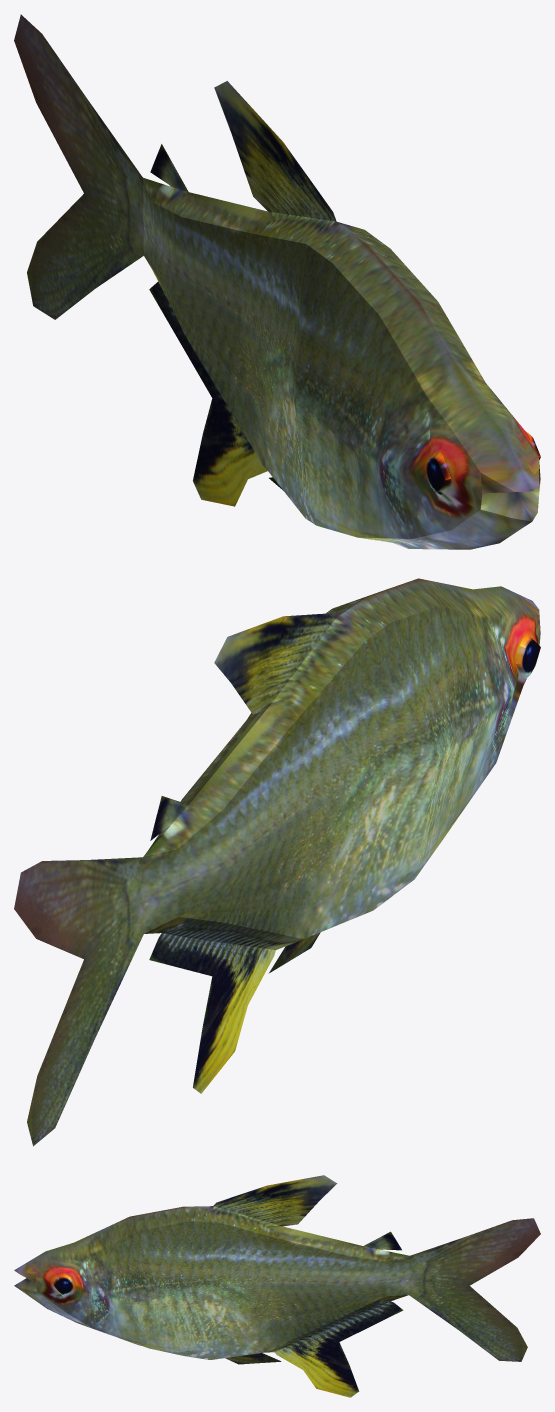
File: littlefish.fbx
The picture shows the model from 3 angles, top to bottom: view 1: azimuth 30°, elevation 25°; view 2: azimuth 150°, elevation 25°; view 3: azimuth 270°, elevation 25°; orthographic projection. The views are drawn at different scales.
Parts seen in each view (by area): view 1: tropicalFishMaya2008:littlefish2:pCube1; view 2: tropicalFishMaya2008:littlefish2:pCube1; view 3: tropicalFishMaya2008:littlefish2:pCube1.
Boxes of the visible parts, <box> form: tropicalFishMaya2008:littlefish2:pCube1: <box>14,14,540,549</box>; tropicalFishMaya2008:littlefish2:pCube1: <box>14,578,540,1146</box>; tropicalFishMaya2008:littlefish2:pCube1: <box>14,1175,540,1397</box>.
Bounding box in the file's own units: 1.63 × 4.77 × 10.23.
